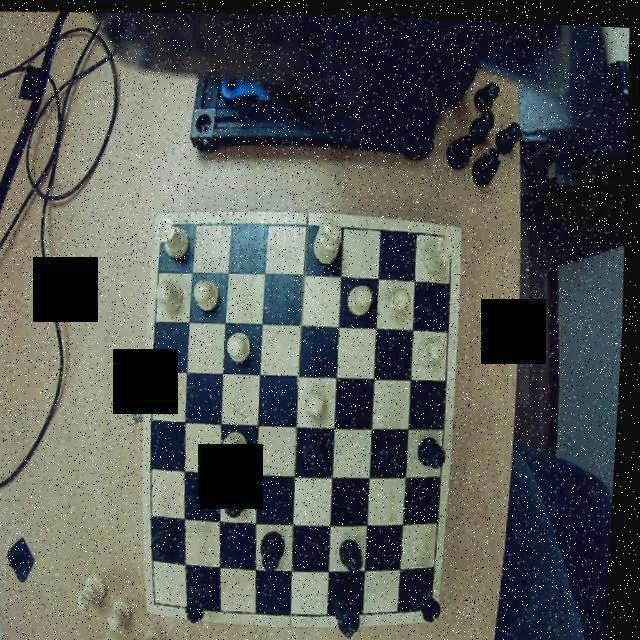chess-table-corners: (157, 213, 180, 240), (439, 220, 462, 244), (428, 587, 446, 617), (156, 590, 176, 614)
